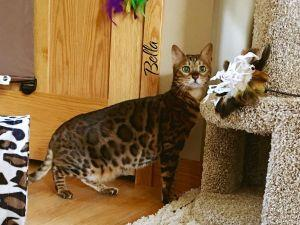bengal: (168, 42, 217, 91)
